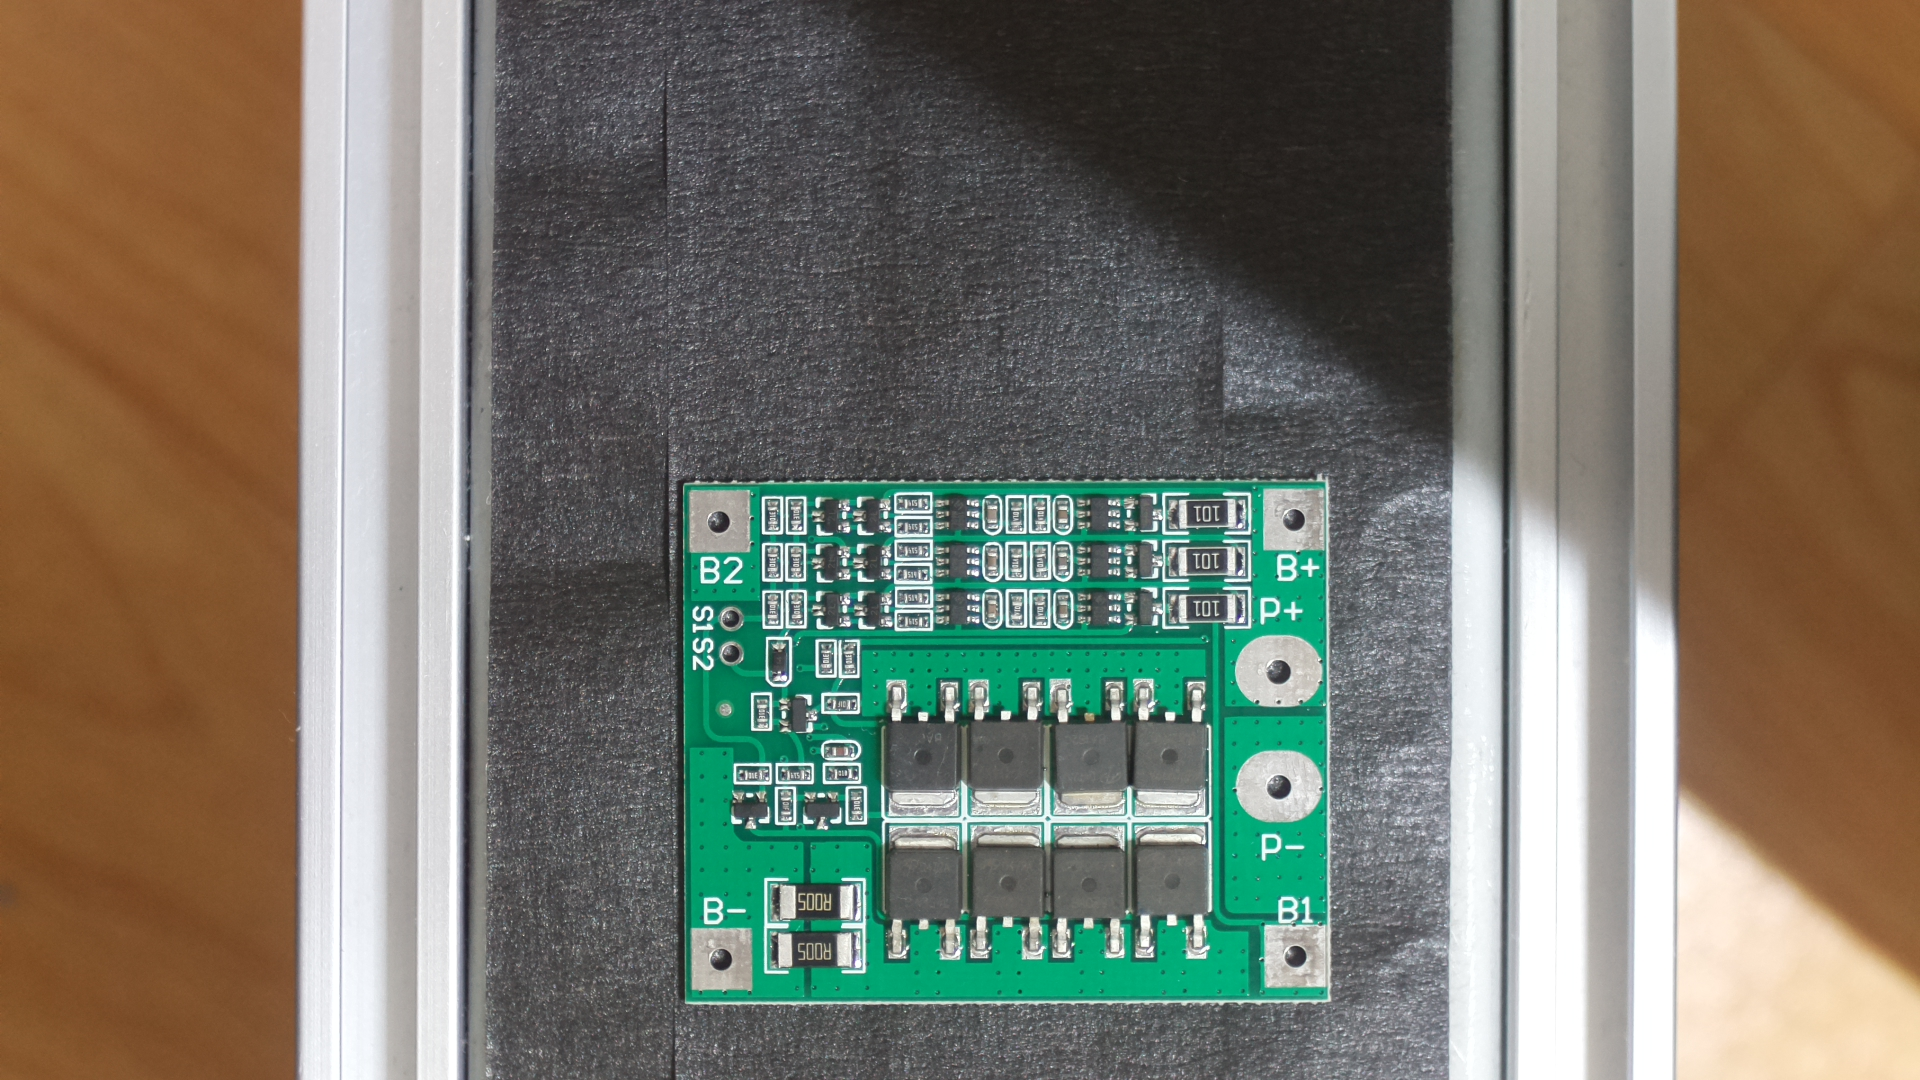C_Normal: (673, 468, 1338, 1022)
